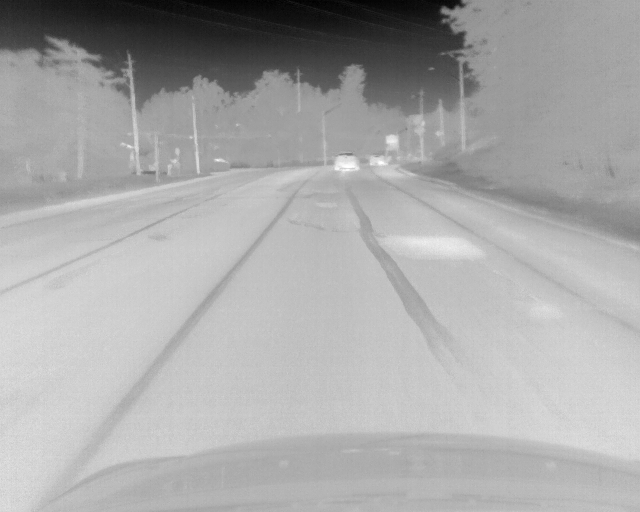car: (334, 152, 361, 173), (368, 154, 387, 167)
